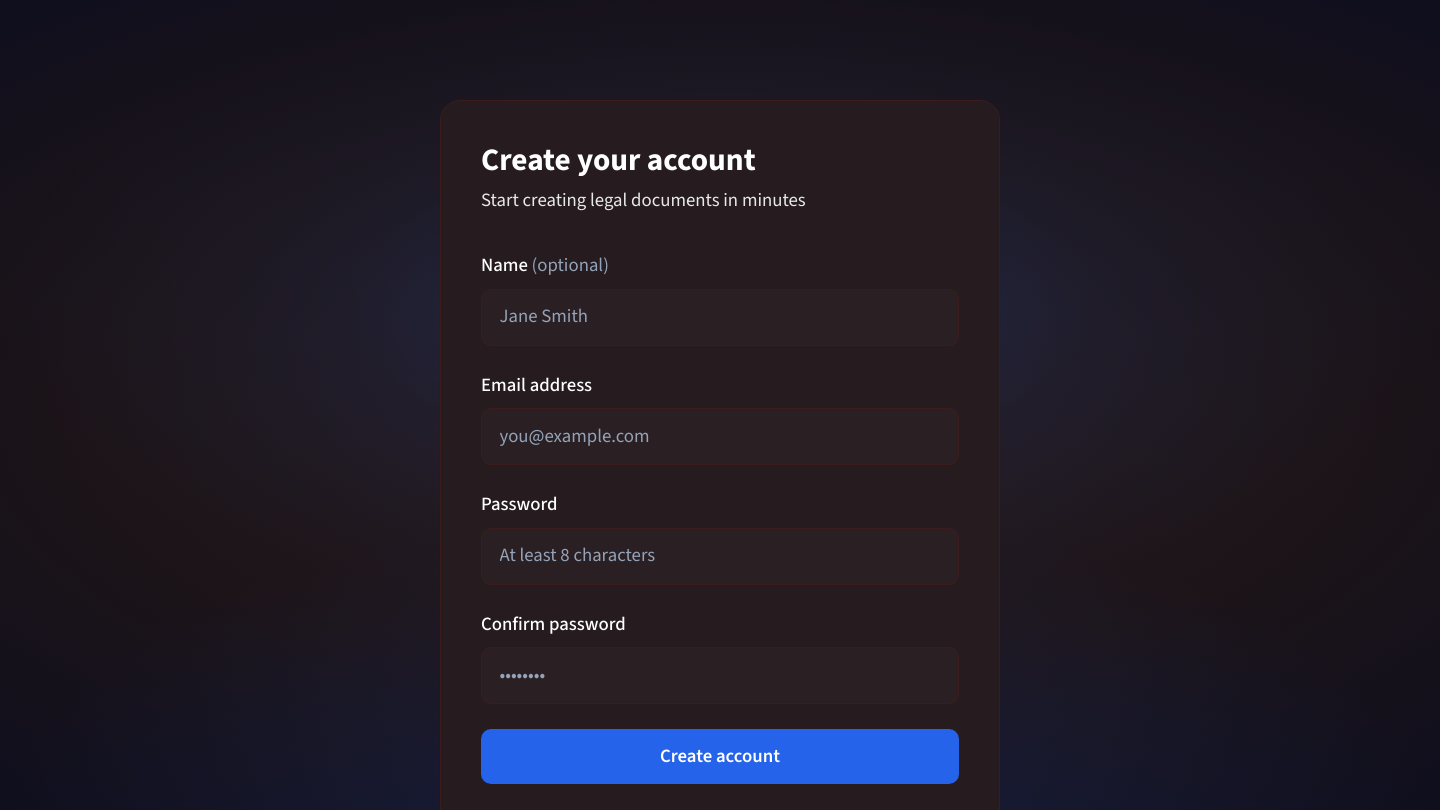
Test: Register page › shows error when passwords do not match
This screenshot has width=1440, height=810.
Type "test@example.com" into the field labelled "Email address".
click(720, 436); type("test@example.com")  # box [481, 408, 959, 465]
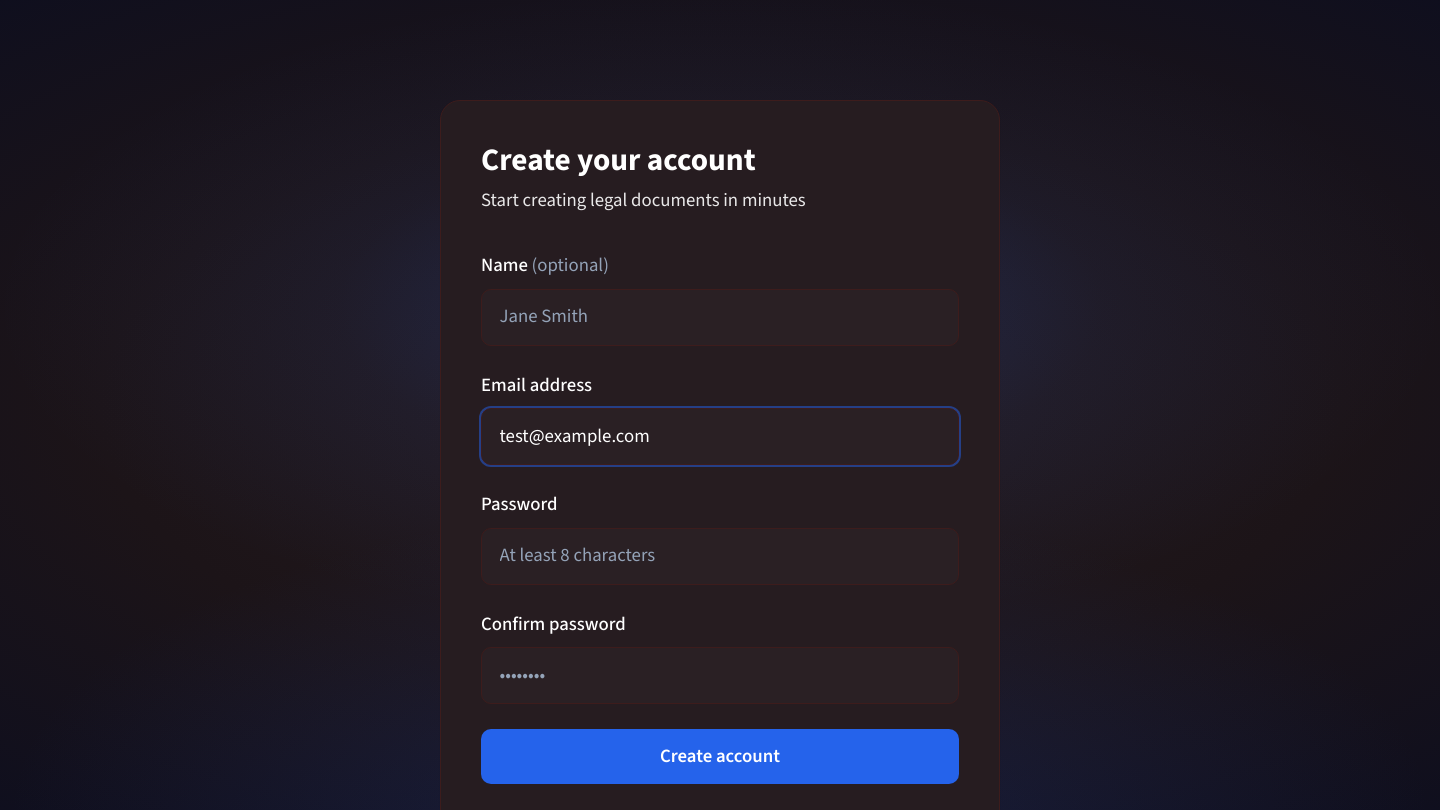
Type "password123" into the password field labelled "Password".
click(720, 556); type("password123")  # box [481, 528, 959, 584]
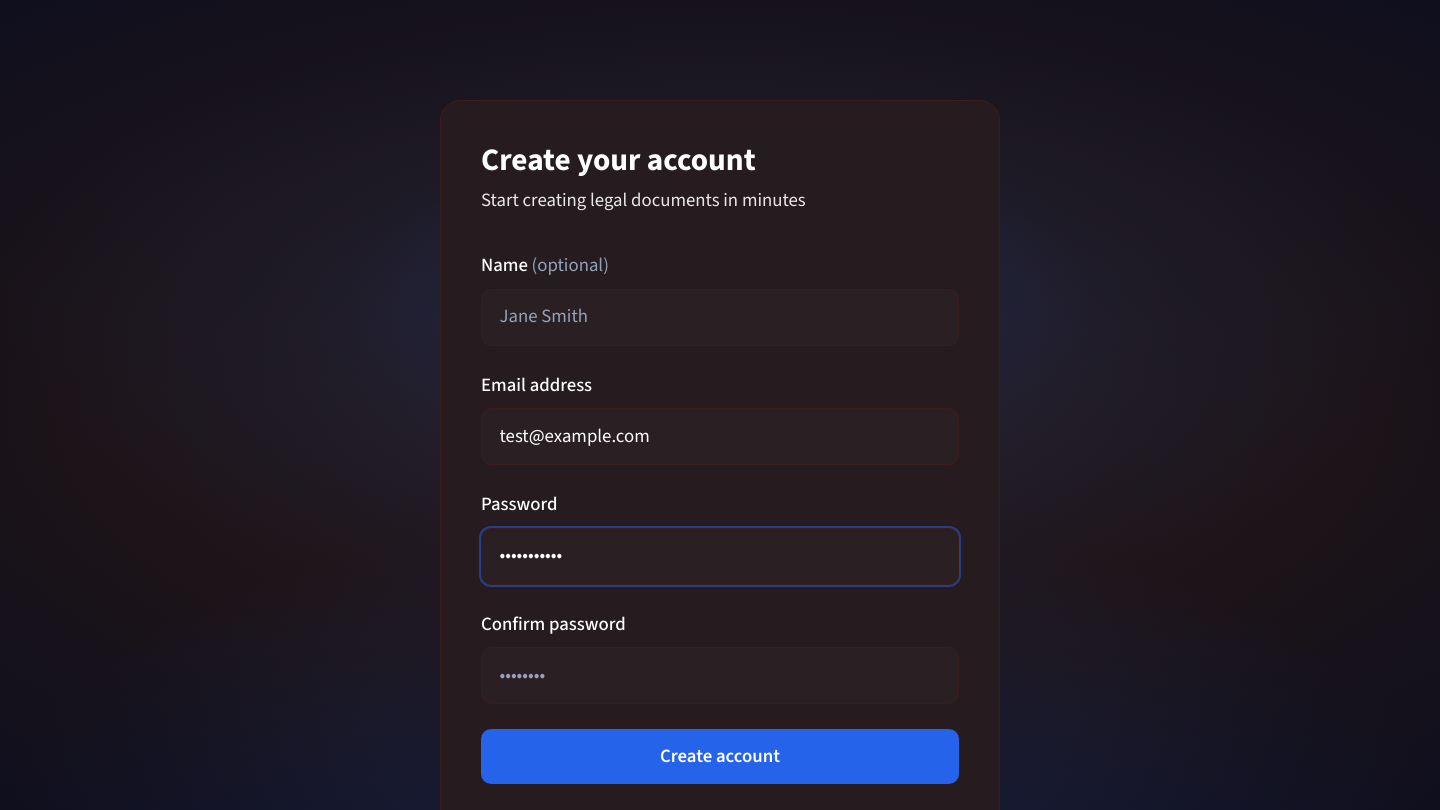
Type "different456" into the password field labelled "Confirm password".
click(720, 676); type("different456")  # box [481, 647, 959, 704]
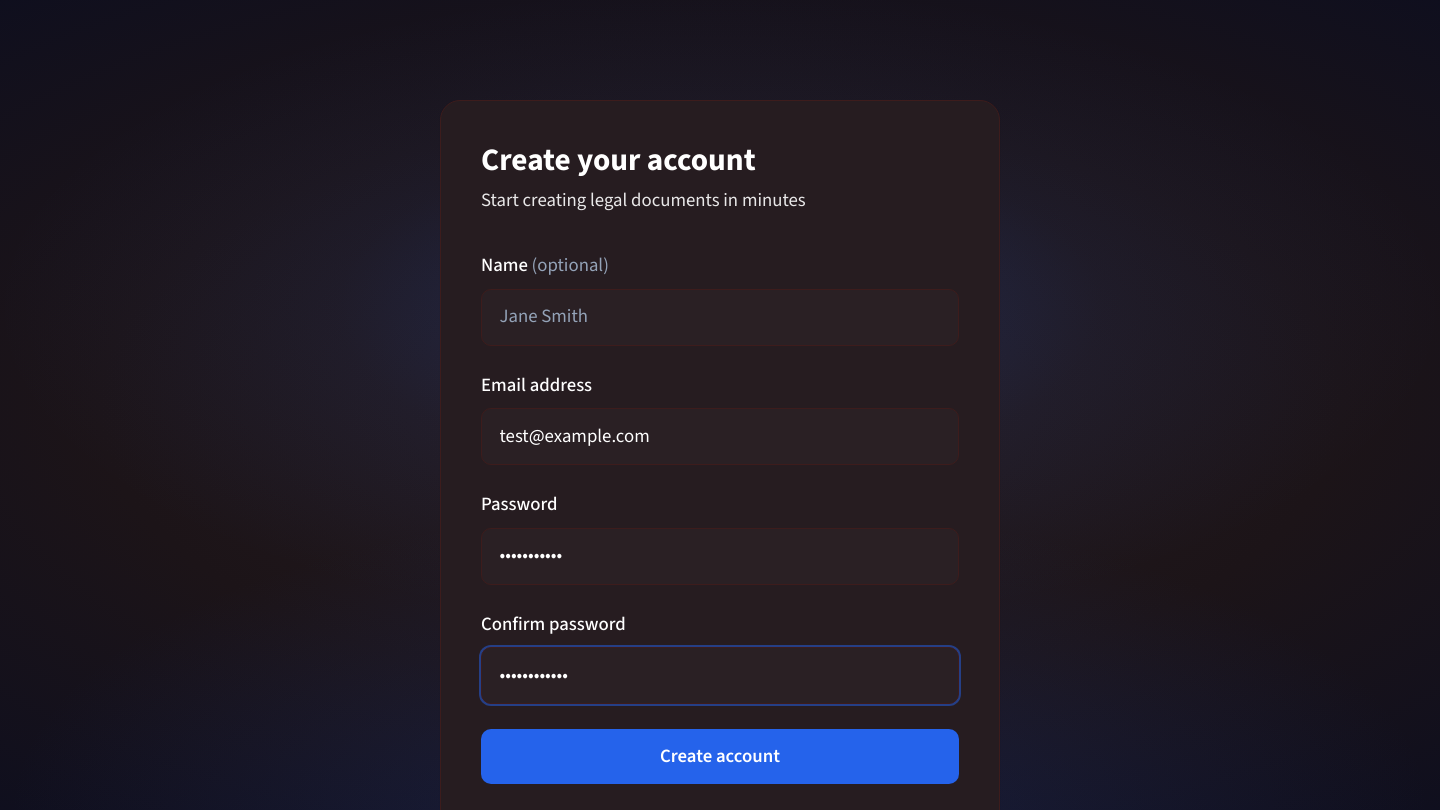
Click the button "Create account".
click(720, 756)  # box [481, 729, 959, 784]
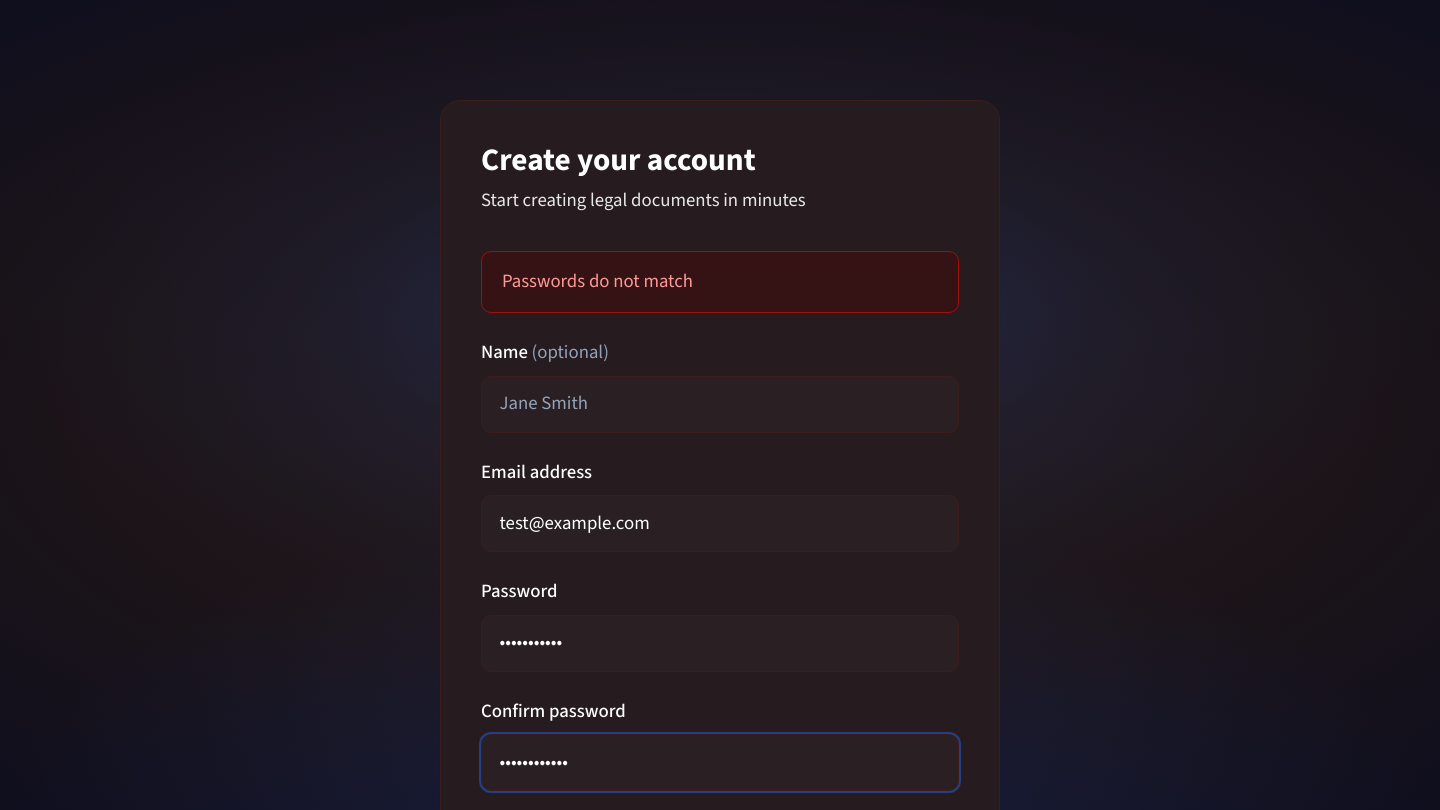
Now the text "Passwords do not match" is shown, box [481, 251, 959, 313]
